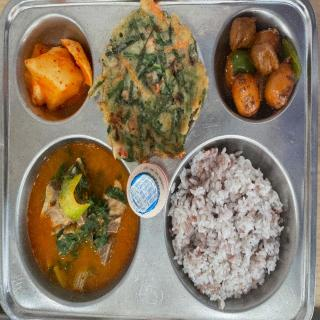Nasi: (169, 149, 286, 305)
